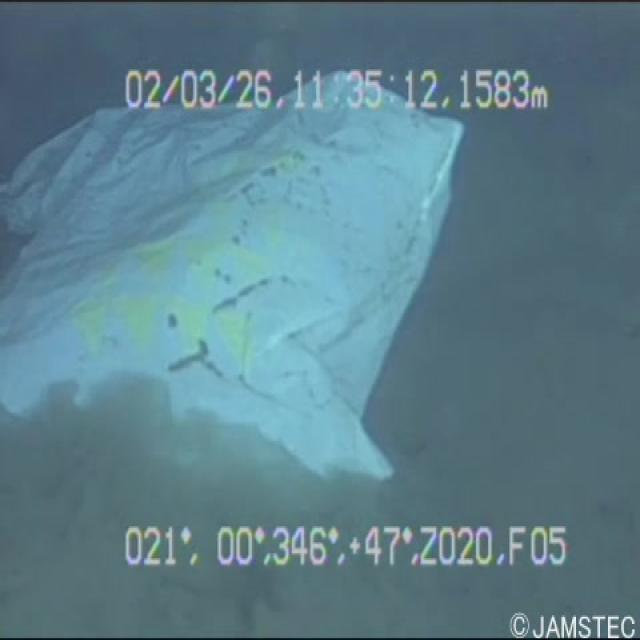plastic: (14, 76, 470, 512)
